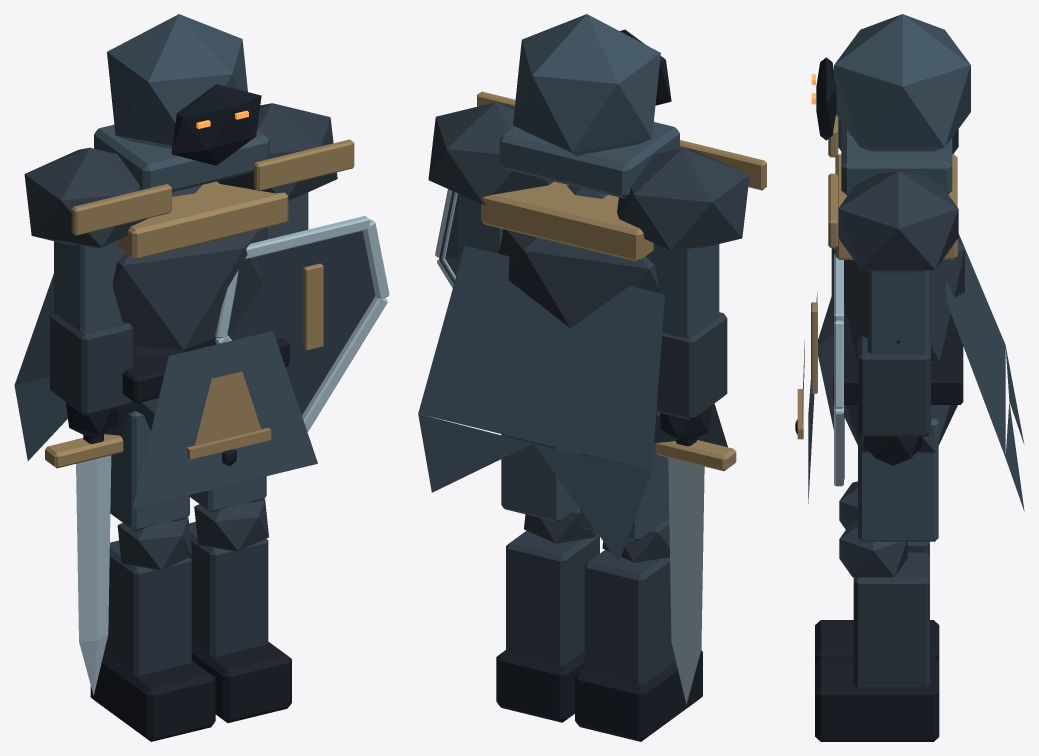
Rendered from portador-sino.glb.
3 views of the same model, side by side, from view 1: azimuth 30°, elevation 25°; view 2: azimuth 150°, elevation 25°; view 3: azimuth 270°, elevation 25° (orthographic). The views are drawn at different scales.
Visible parts, largest first — view 1: Head_Sino cloth, Torso_Sino cloth, RightArm_Sino armor, Torso_Sino armor, Shield_Sino armor, RightLeg_Sino armor, Torso_Sino worn brass, LeftLeg_Sino armor, Right boot, Sword_Sino blade, Shield_Sino blade, Left boot (+13 smaller); view 2: Cape_Sino cloth, Head_Sino cloth, RightArm_Sino armor, RightLeg_Sino armor, LeftLeg_Sino armor, Torso_Sino armor, Torso_Sino worn brass, Sword_Sino blade, LeftArm_Sino armor, Right boot, RightArm_Sino cloth, Left boot (+9 smaller); view 3: Head_Sino cloth, LeftArm_Sino armor, LeftLeg_Sino armor, Left boot, LeftLeg_Sino cloth, Cape_Sino cloth, Torso_Sino armor, LeftArm_Sino cloth, Torso_Sino shadow, Shield_Sino blade, Right boot, Torso_Sino worn brass (+7 smaller).
Boxes of the visible parts, x1,y1,x2,y2 form: Head_Sino cloth: (94,14,269,192); Torso_Sino cloth: (132,331,317,508); RightArm_Sino armor: (24,147,148,415); Torso_Sino armor: (104,185,266,435); Shield_Sino armor: (227,231,375,415); RightLeg_Sino armor: (104,517,192,675); Torso_Sino worn brass: (118,181,288,459); LeftLeg_Sino armor: (189,499,268,656); Right boot: (90,654,215,741); Sword_Sino blade: (76,455,111,695); Shield_Sino blade: (215,216,389,431); Left boot: (192,642,291,722); Cape_Sino cloth: (418,245,664,562); Head_Sino cloth: (499,14,679,198); RightArm_Sino armor: (617,148,749,420); RightLeg_Sino armor: (584,518,675,684); LeftLeg_Sino armor: (506,507,599,665); Torso_Sino armor: (498,185,677,442); Torso_Sino worn brass: (481,181,653,261); Sword_Sino blade: (668,458,704,704); LeftArm_Sino armor: (428,102,553,204); Right boot: (575,650,702,741); RightArm_Sino cloth: (646,243,719,338); Left boot: (496,650,584,722); Head_Sino cloth: (834,14,970,195); LeftArm_Sino armor: (838,171,958,436); LeftLeg_Sino armor: (839,519,929,687); Left boot: (815,658,939,741); LeftLeg_Sino cloth: (858,418,938,541); Cape_Sino cloth: (946,234,1024,511); Torso_Sino armor: (831,236,964,452); LeftArm_Sino cloth: (867,271,928,354); Torso_Sino shadow: (795,327,963,434); Shield_Sino blade: (834,254,843,486); Right boot: (815,620,939,662); Torso_Sino worn brass: (797,154,957,439).
Size of the model in its own units: 1 by 2 by 0.5991.
